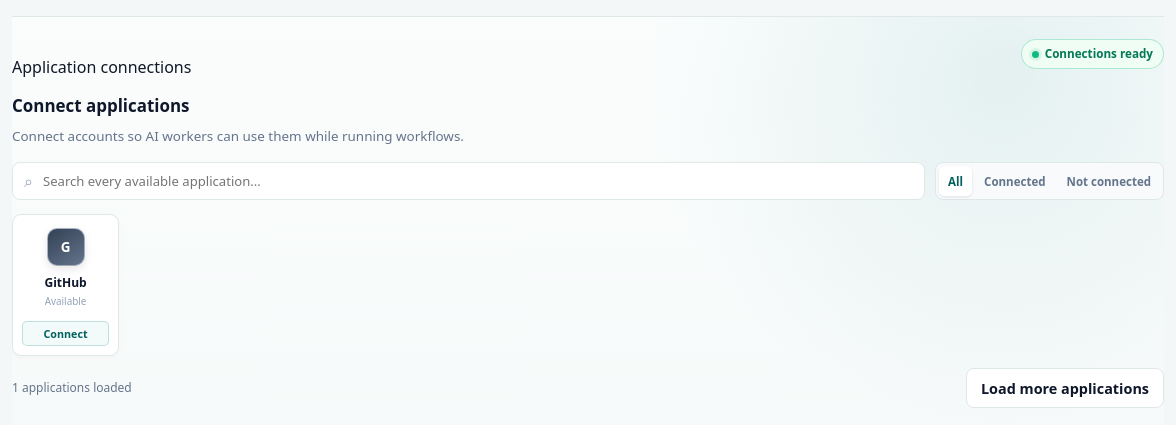
Scenario: Composio high-density connections › discards an old load-more page after the search query changes
The image size is (1176, 425).
expect the text "GitHub" is shown: met, box [44,274,87,291]
Click the button "Load more applications".
click(1065, 388)  # box [966,368,1164,408]
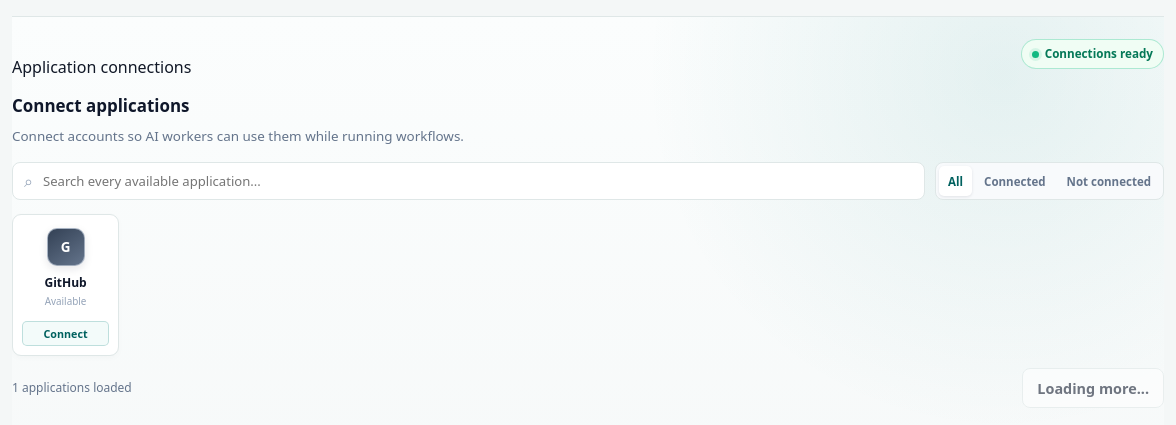
Type "gmail" into the field with placeholder "Search every available application...".
click(477, 181); type("gmail")  # box [41,170,913,192]
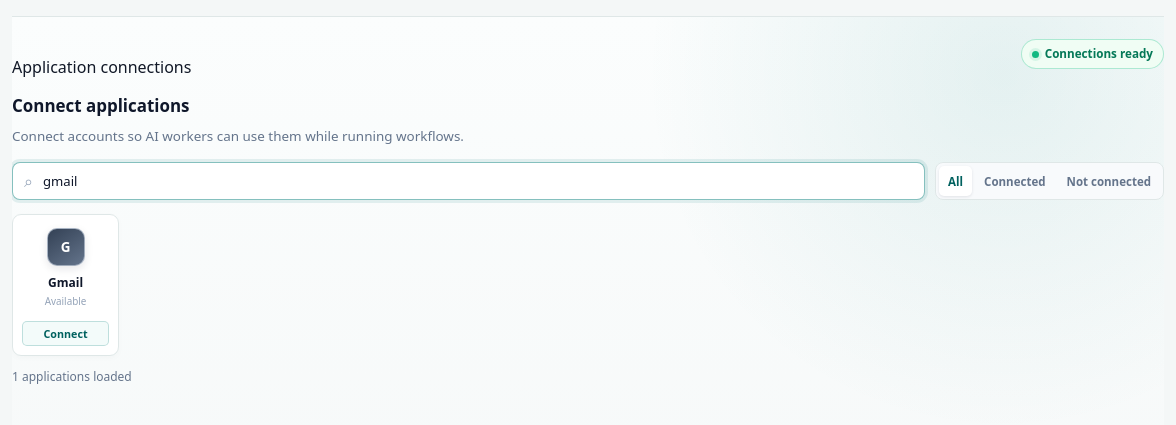
expect the text "Gmail" is shown: met, box [48,274,83,291]
